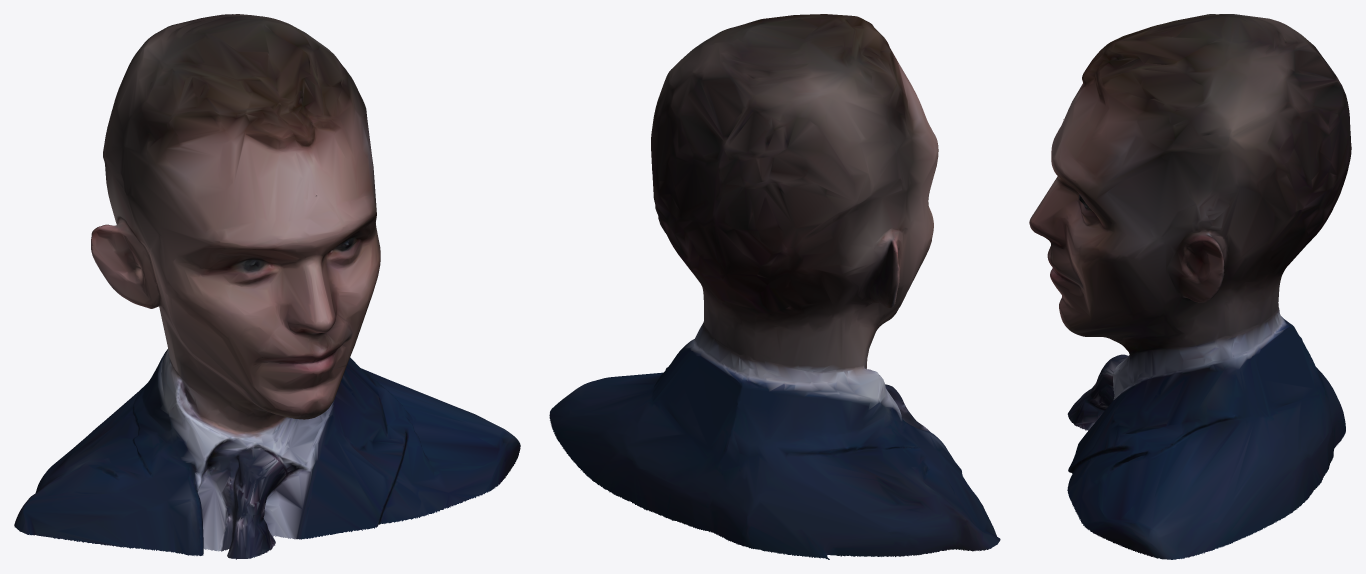
The model's file is Mr_Watson.glb.
The picture shows the model from 3 angles, left to right: view 1: azimuth 30°, elevation 25°; view 2: azimuth 150°, elevation 25°; view 3: azimuth 270°, elevation 25°; orthographic projection. The views are drawn at different scales.
Visible parts, largest first — view 1: Mr.Watson.002; view 2: Mr.Watson.002; view 3: Mr.Watson.002.
Boxes of the visible parts, x1,y1,x2,y2 form: Mr.Watson.002: [14, 14, 520, 559]; Mr.Watson.002: [549, 14, 1000, 559]; Mr.Watson.002: [1029, 14, 1351, 559].
Bounding box in the file's own units: 9.02 × 8.35 × 5.82.
